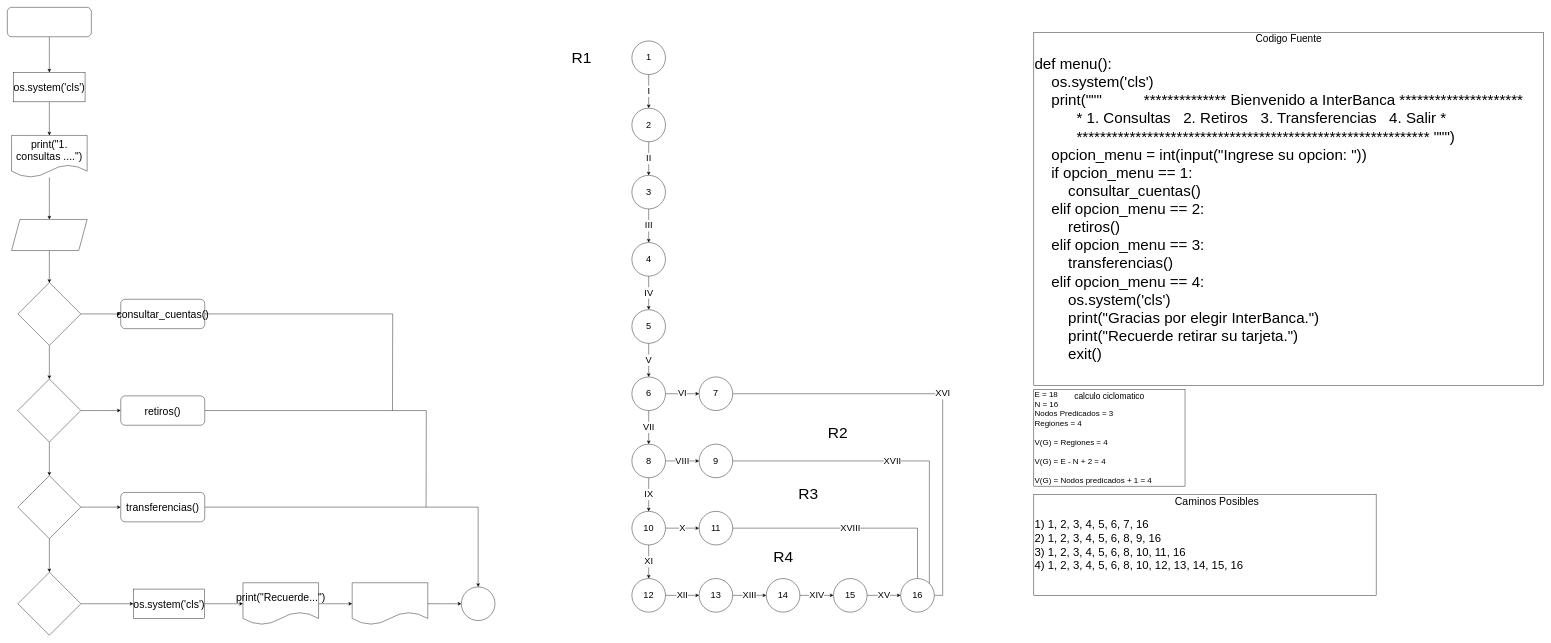
Some shapes in this 1551 by 643 pixel diagram are drawn without their labels. The box of each missing label's shape, as (x1, y1, x2, y2) in pixels:
def menu(): (7, 7, 91, 37)
elif opcion_menu == 2: (17, 379, 81, 442)
elif opcion_menu == 3: (17, 475, 81, 539)
elif opcion_menu == 4: (17, 572, 81, 635)
FIN: (461, 587, 495, 621)
if opcion_menu == 1: (17, 282, 81, 345)
opcion_menu= int(input()): (11, 219, 87, 251)
print("Gracias por.."): (352, 582, 428, 625)
